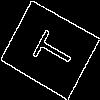T: (24, 24, 77, 74)
